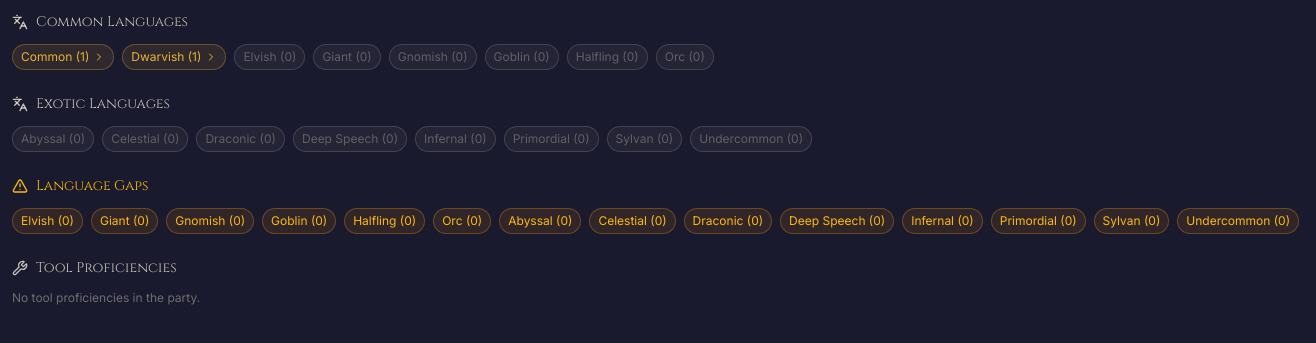
Scenario: LanguageCoverage › should expand language badge to show speakers on click
Click the button with aria-label "Common: 1 speaker": x=63, y=57 [12, 44, 114, 70]
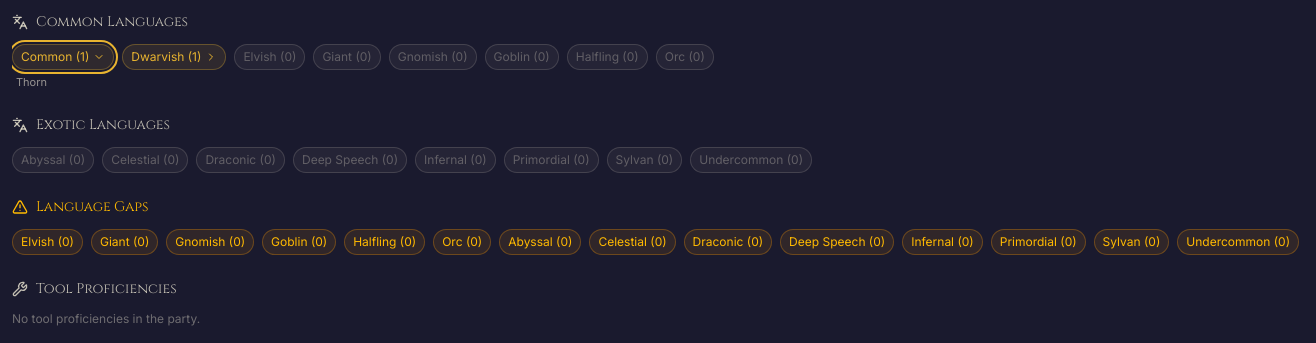
Expected: the text with test id "language-speakers-common" reads "Thorn", [16, 75, 47, 89]
